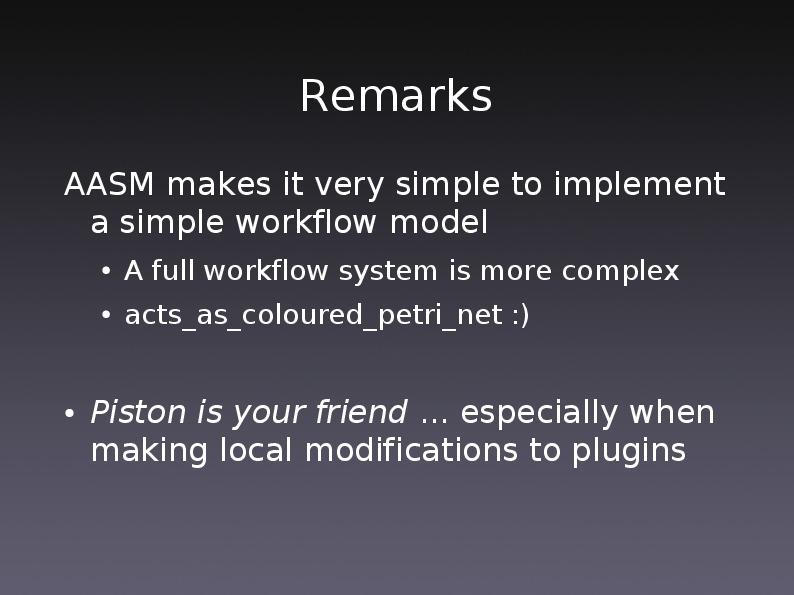paragraph: (37, 139, 754, 504)
title: (295, 68, 503, 124)
